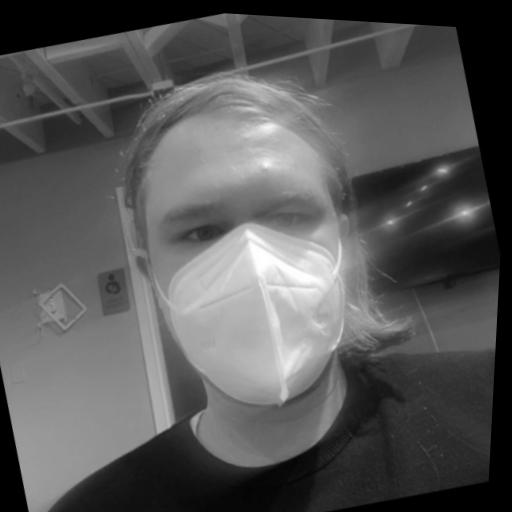mask: (40, 22, 459, 512)
